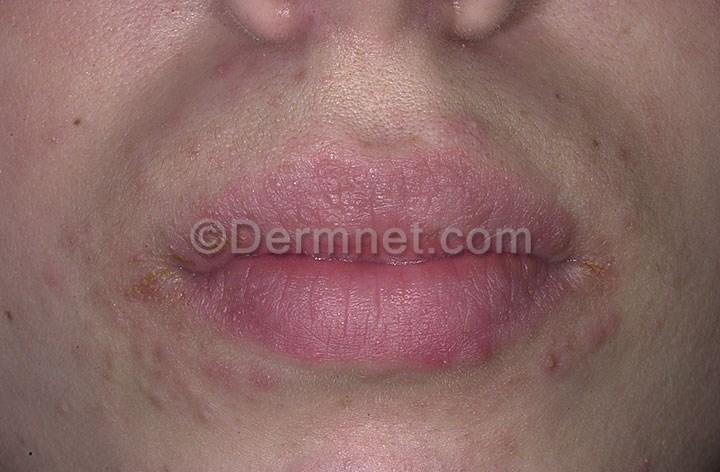exudacion 1: (122, 235, 212, 315), (573, 245, 625, 294)
